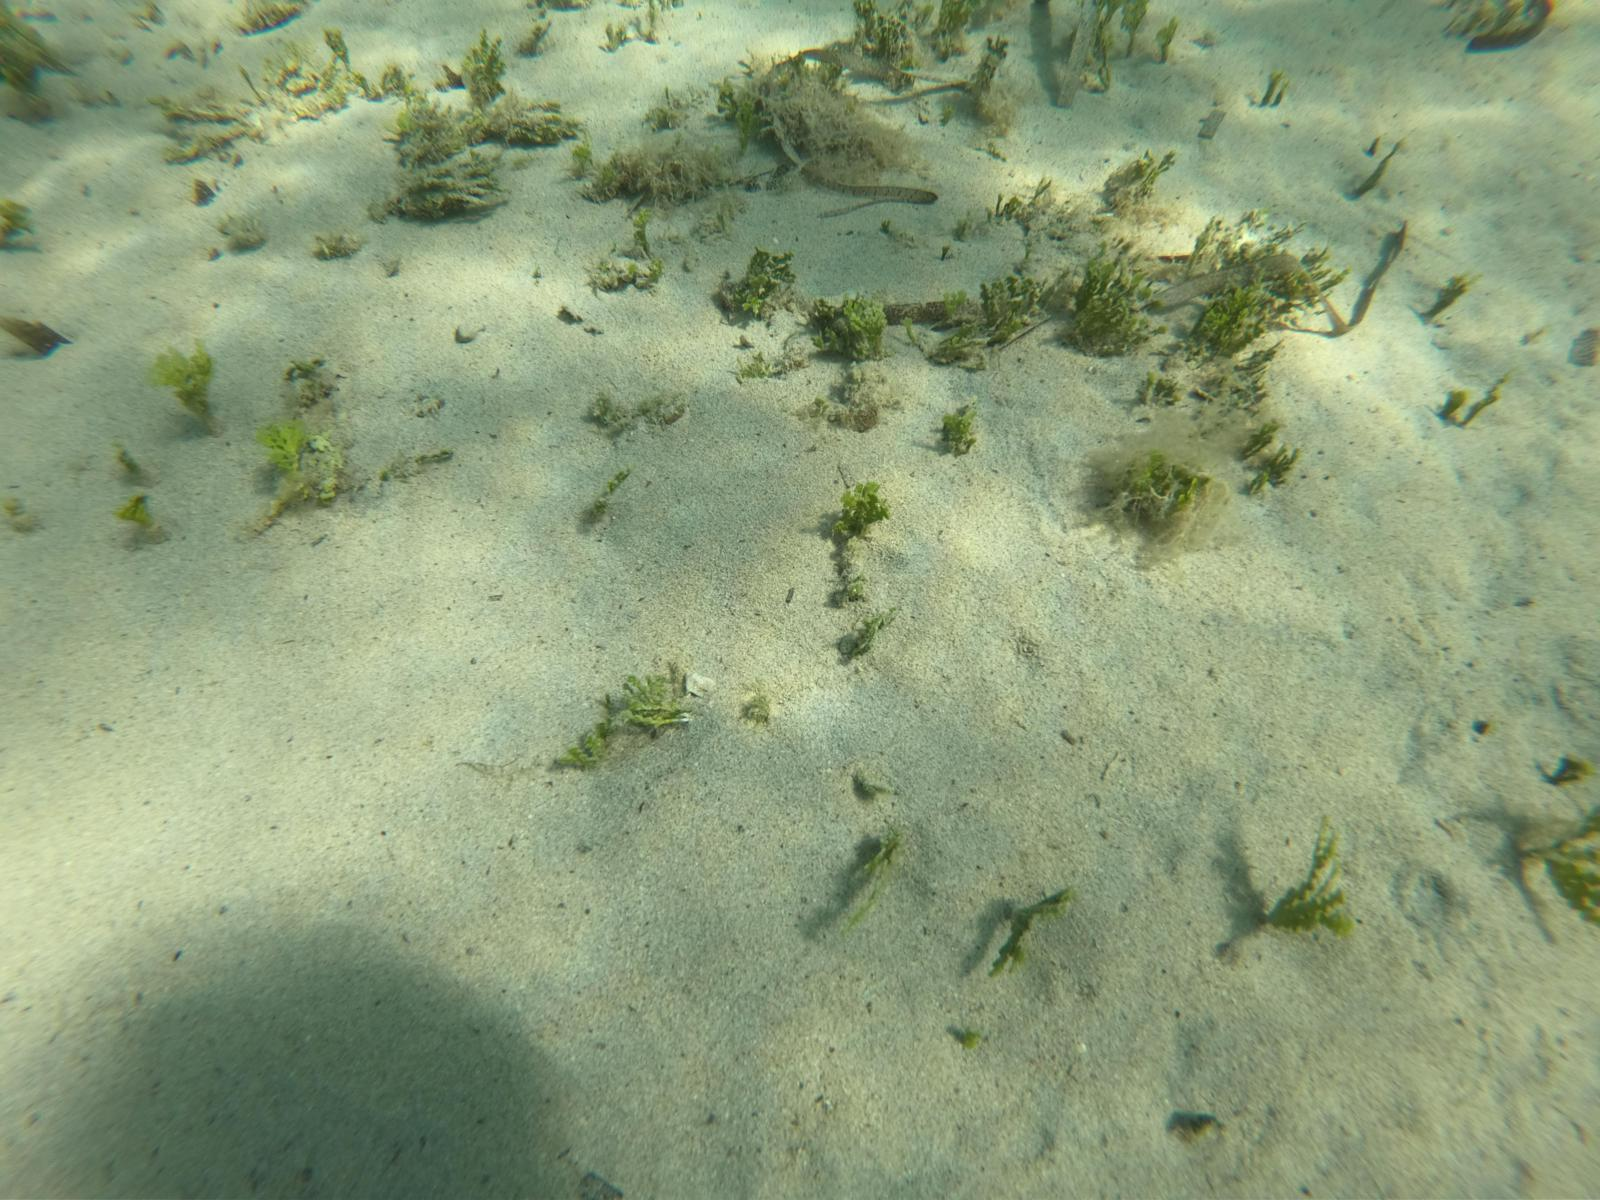halimeda: (1260, 813, 1351, 942), (990, 892, 1065, 981), (150, 342, 219, 436), (1075, 263, 1151, 348), (1193, 274, 1280, 345), (619, 666, 694, 742), (397, 161, 498, 216), (813, 297, 893, 364), (830, 474, 898, 545), (980, 271, 1043, 342), (389, 100, 464, 156), (734, 243, 797, 310), (256, 411, 312, 480), (462, 28, 506, 100), (1189, 223, 1247, 268), (1125, 146, 1178, 195), (559, 726, 610, 776), (850, 606, 900, 654), (1424, 274, 1471, 321), (1283, 271, 1352, 303), (593, 469, 632, 524), (1260, 442, 1303, 490), (941, 400, 976, 453), (1466, 377, 1504, 426), (1241, 421, 1283, 459), (125, 495, 159, 541), (979, 37, 1008, 86), (323, 26, 351, 71), (734, 108, 760, 158), (1158, 16, 1182, 63), (630, 213, 653, 256), (711, 96, 745, 122), (1439, 392, 1466, 421), (1306, 248, 1337, 274), (573, 147, 595, 182)
